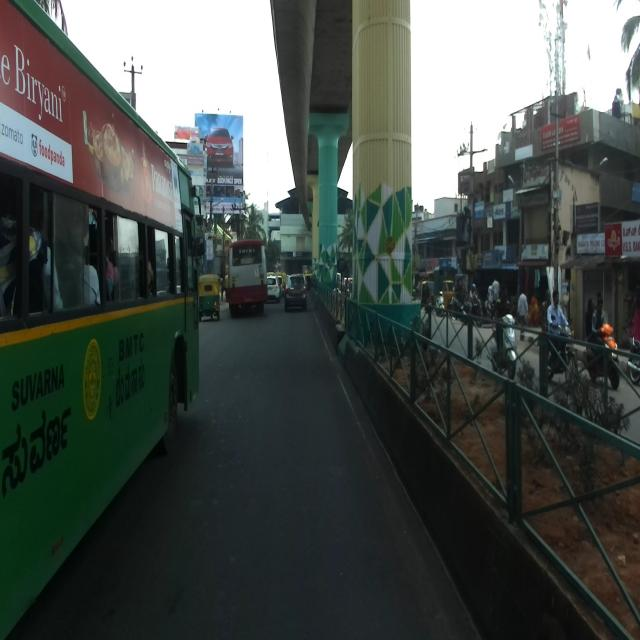bus: (0, 0, 207, 636), (225, 238, 268, 316)
car: (283, 272, 307, 310)
motorcycle: (536, 316, 578, 388)
scooter: (582, 321, 620, 391), (491, 314, 517, 378)
